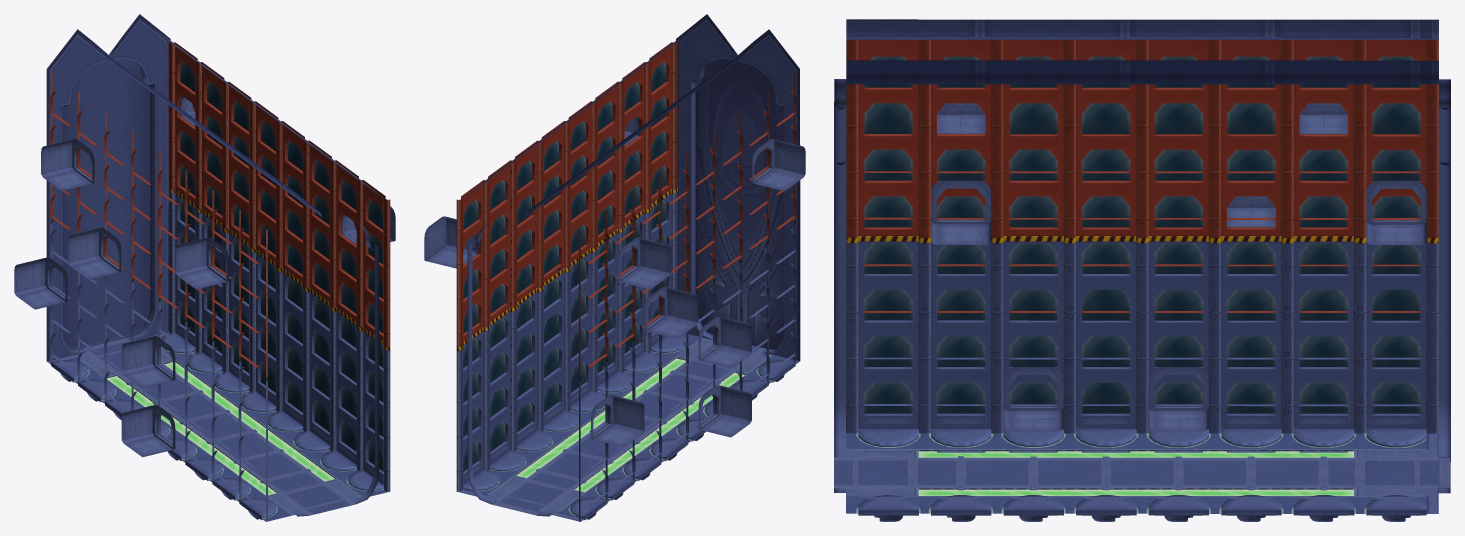
Rendered from prison_turo_from_lilo_and_stitch.glb.
The picture shows the model from 3 angles, left to right: view 1: azimuth 30°, elevation 25°; view 2: azimuth 150°, elevation 25°; view 3: azimuth 270°, elevation 25°; orthographic projection. The views are drawn at different scales.
Visible parts, largest first — view 1: TURBOprison_16, POD9.004_14, POD9.001_11, POD9.003_13, POD7_9, POD10_1, PODS_15, POD2_4, POD9_10, POD1_0, POD11_2, POD3_5 (+1 smaller); view 2: TURBOprison_16, POD10_1, POD7_9, POD6_8, POD3_5, POD1_0, POD9.004_14, POD11_2, POD5_7, POD12_3, POD9_10, PODS_15; view 3: TURBOprison_16, POD11_2, POD1_0, POD2_4, POD9_10, PODS_15, POD12_3, POD3_5, POD9.002_12, POD10_1, POD4_6, POD7_9 (+5 smaller).
Boxes of the visible parts, x1,y1,x2,y2 form: TURBOprison_16: [14, 14, 395, 521]; POD9.004_14: [239, 497, 276, 519]; POD9.001_11: [185, 458, 222, 480]; POD9.003_13: [212, 478, 249, 500]; POD7_9: [78, 379, 115, 402]; POD10_1: [51, 360, 88, 382]; PODS_15: [294, 430, 329, 451]; POD2_4: [268, 411, 303, 431]; POD9_10: [321, 450, 356, 470]; POD1_0: [241, 391, 276, 411]; POD11_2: [187, 352, 222, 372]; POD3_5: [214, 371, 249, 392]; TURBOprison_16: [424, 14, 805, 521]; POD10_1: [570, 497, 607, 519]; POD7_9: [597, 478, 634, 500]; POD6_8: [623, 458, 661, 480]; POD3_5: [517, 430, 552, 451]; POD1_0: [543, 410, 578, 431]; POD9.004_14: [758, 360, 795, 382]; POD11_2: [490, 450, 525, 470]; POD5_7: [650, 438, 687, 461]; POD12_3: [463, 470, 498, 490]; POD9_10: [624, 351, 659, 372]; PODS_15: [597, 371, 632, 392]; TURBOprison_16: [834, 19, 1450, 515]; POD11_2: [1293, 495, 1354, 521]; POD1_0: [1148, 495, 1208, 521]; POD2_4: [1076, 495, 1136, 521]; POD9_10: [931, 495, 991, 521]; PODS_15: [1003, 495, 1063, 521]; POD12_3: [1366, 495, 1426, 521]; POD3_5: [1221, 495, 1281, 521]; POD9.002_12: [858, 495, 918, 521]; POD10_1: [1366, 428, 1426, 447]; POD4_6: [1076, 428, 1136, 447]; POD7_9: [1293, 428, 1354, 447].
Size of the model in its own units: 306 by 495 by 612.
21 materials, 21 textured.
